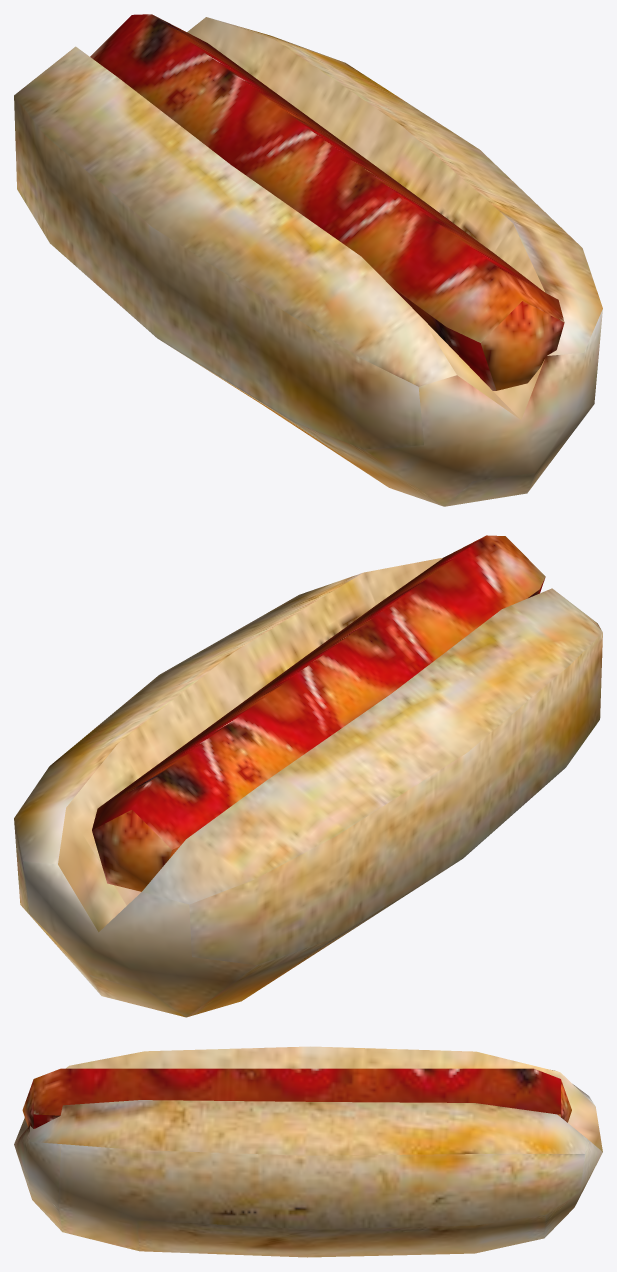
The model's file is Hot_dog_01.glb.
3 views of the same model, one above another, from view 1: azimuth 30°, elevation 25°; view 2: azimuth 150°, elevation 25°; view 3: azimuth 270°, elevation 25° (orthographic). The views are drawn at different scales.
Visible parts, largest first — view 1: Hot_dog_01; view 2: Hot_dog_01; view 3: Hot_dog_01.
Boxes of the visible parts, x1,y1,x2,y2 form: Hot_dog_01: [14, 14, 602, 506]; Hot_dog_01: [14, 535, 602, 1017]; Hot_dog_01: [14, 1046, 602, 1257].
Size of the model in its own units: 0.0949 by 0.0711 by 0.2206.
1 material, 1 textured.
